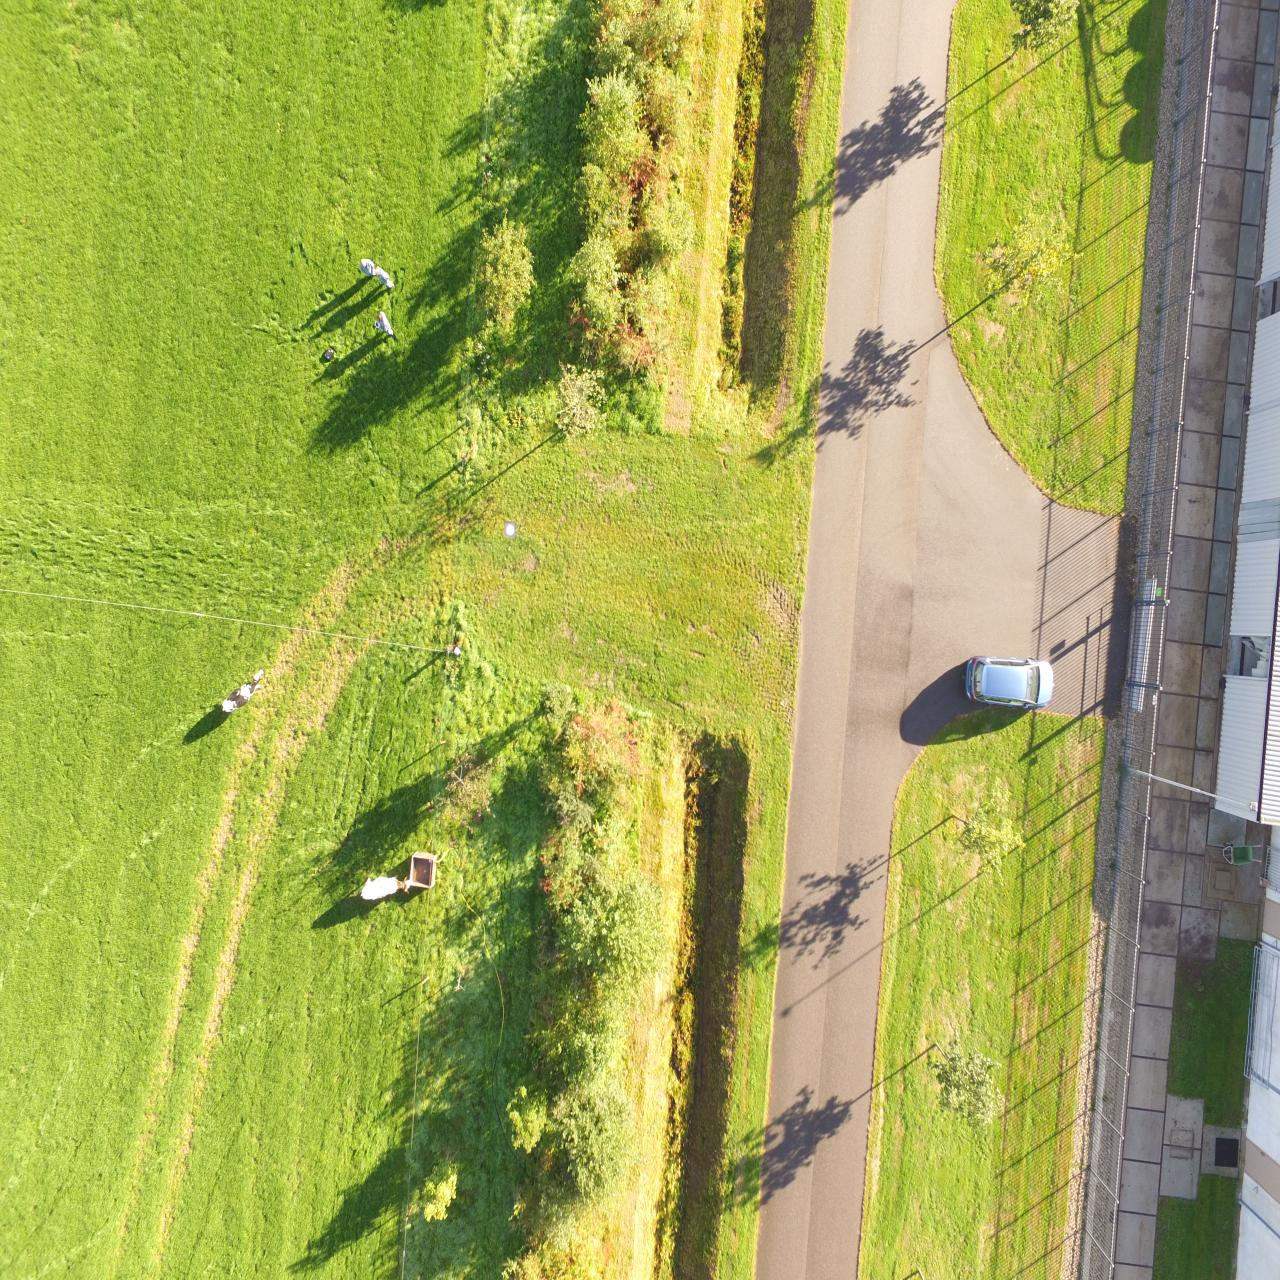cow: (217, 667, 267, 716), (362, 873, 413, 901)
